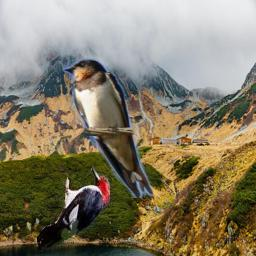Swallow: (62, 58, 153, 198)
Woodpecker: (37, 165, 110, 253)
